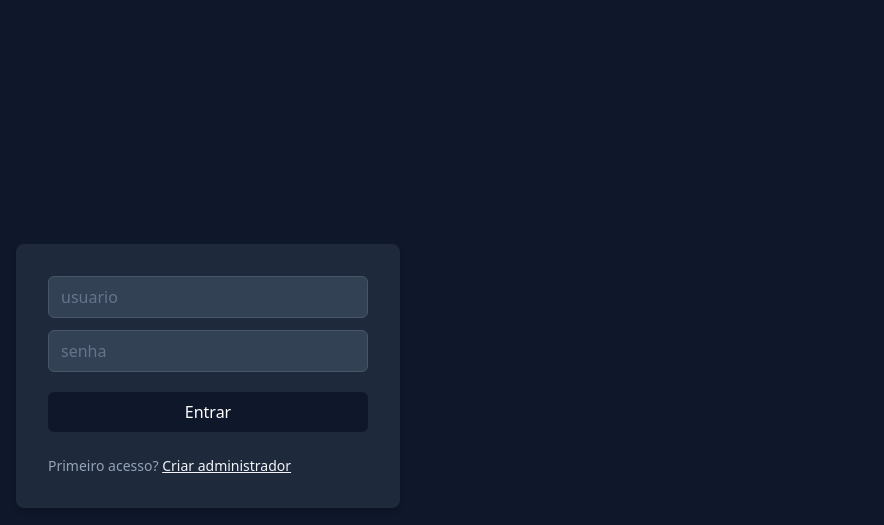
Test: App › shows an error message when login fails
What coordinates should you click on to do the following:
click the button "Entrar"
I would click on:
 (208, 412)
Its box is x1=48 y1=392 x2=368 y2=432.
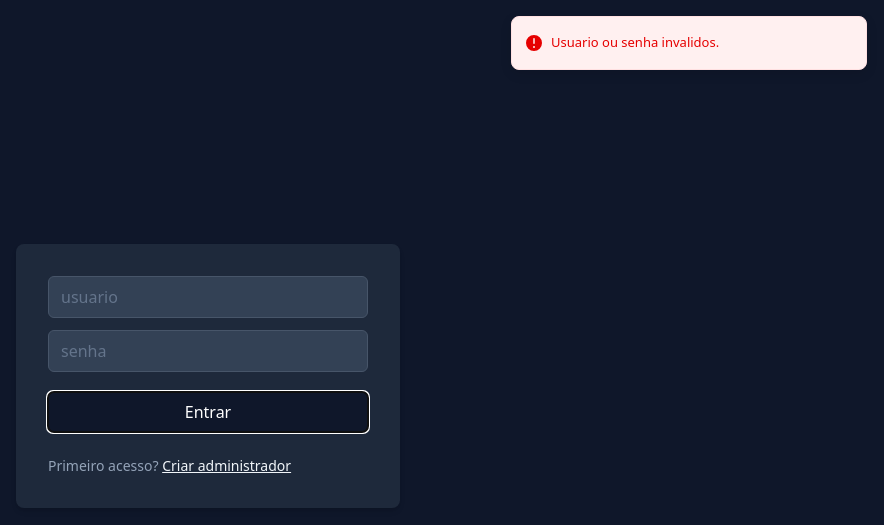
Check: the text "Usuario ou senha invalidos." is shown, box x1=551 y1=33 x2=719 y2=52
